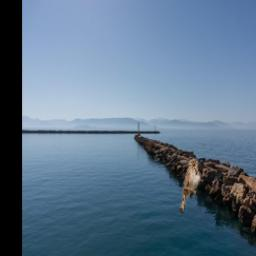Sparrow: (179, 157, 200, 214)
